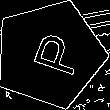P_W: (19, 28, 81, 80)
